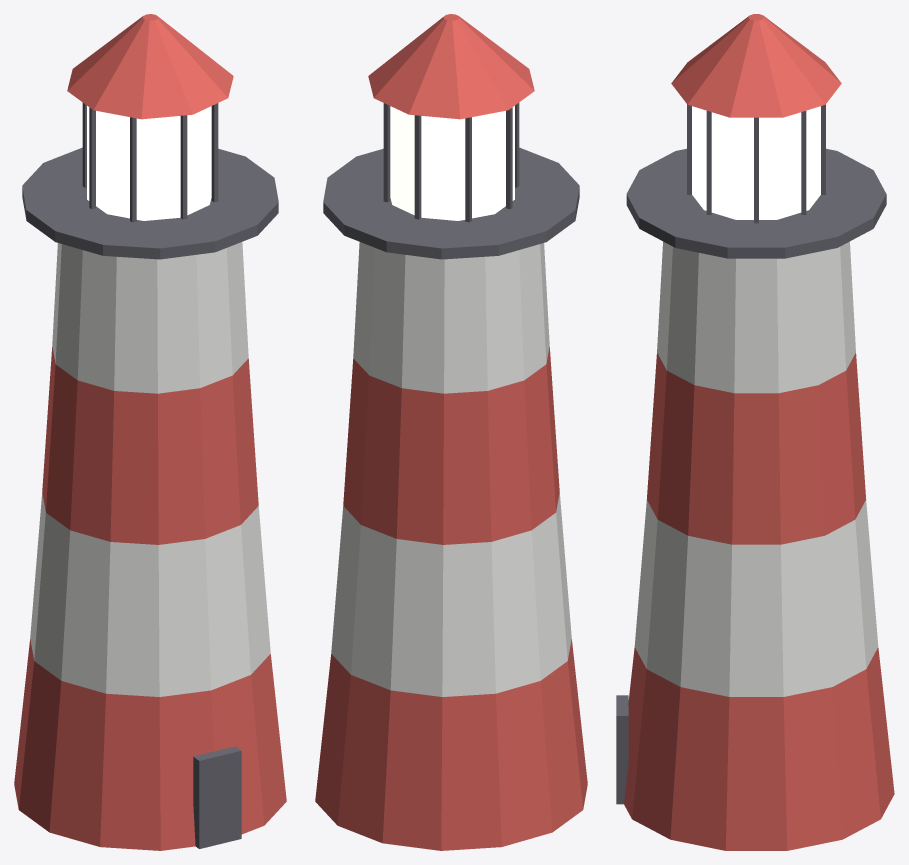
The model's file is lighthouse.glb.
3 views of the same model, side by side, from view 1: azimuth 30°, elevation 25°; view 2: azimuth 150°, elevation 25°; view 3: azimuth 270°, elevation 25° (orthographic).
Parts seen in each view (by area): view 1: Lighthouse; view 2: Lighthouse; view 3: Lighthouse.
Boxes of the visible parts, left/top/right/bottom form: Lighthouse: left=14, top=14, right=286, bottom=850; Lighthouse: left=315, top=14, right=587, bottom=850; Lighthouse: left=616, top=14, right=894, bottom=850.
Bounding box in the file's own units: 6.63 × 21.1 × 6.85.
